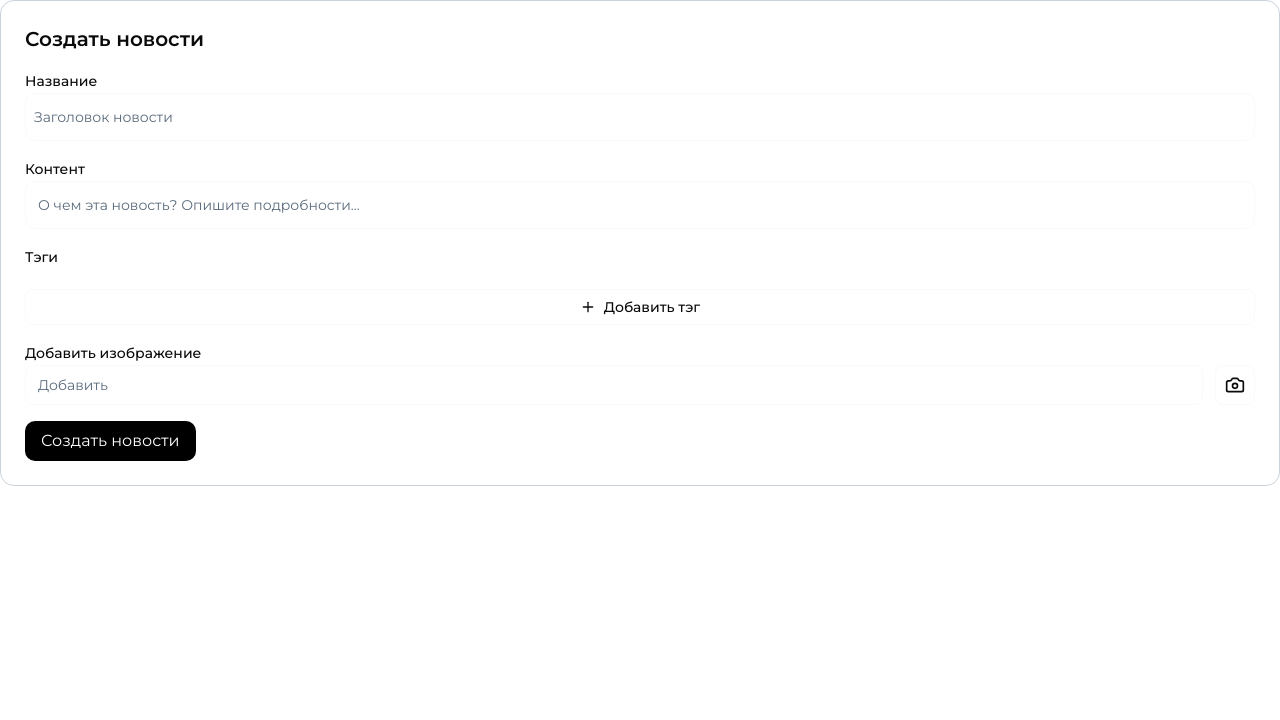
Test: CreateNewsForm › требует заголовок и контент
Click the button "Создать новости". click: (110, 441)
box: x1=25 y1=421 x2=196 y2=461
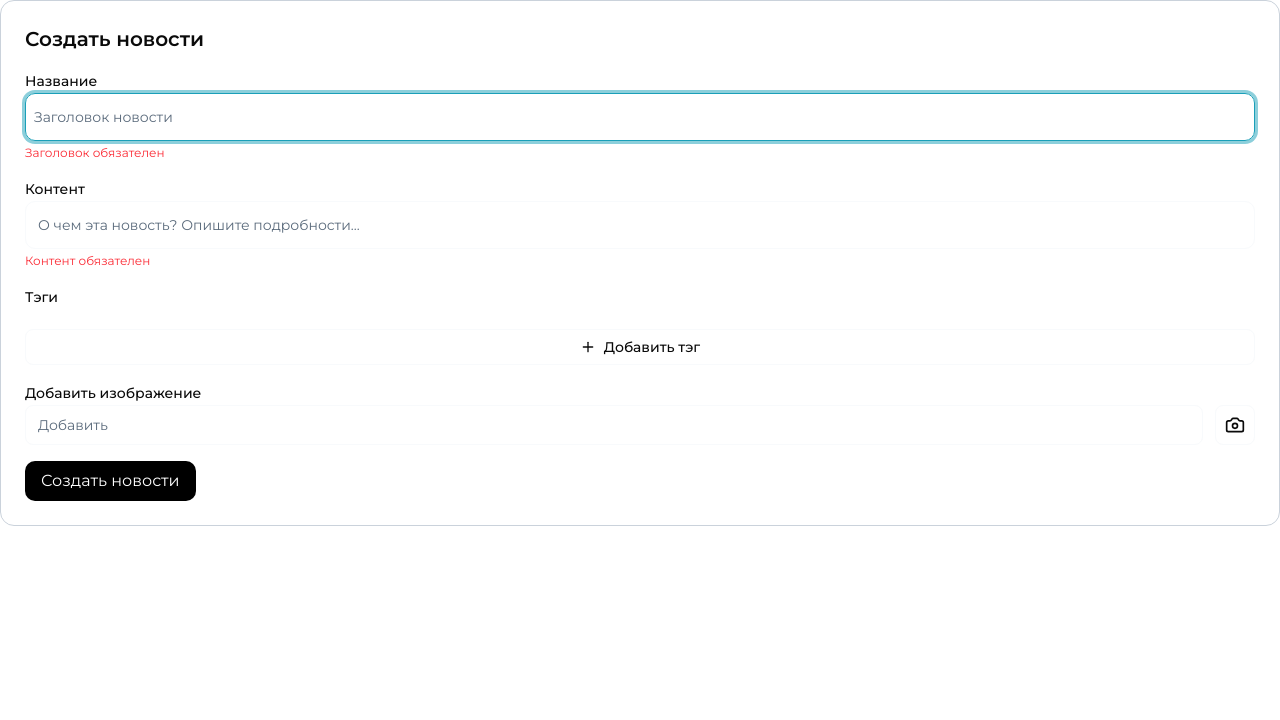
Expected: the text "Заголовок обязателен" is shown, x1=25 y1=145 x2=164 y2=160
Expected: the text "Контент обязателен" is shown, x1=25 y1=253 x2=150 y2=268
